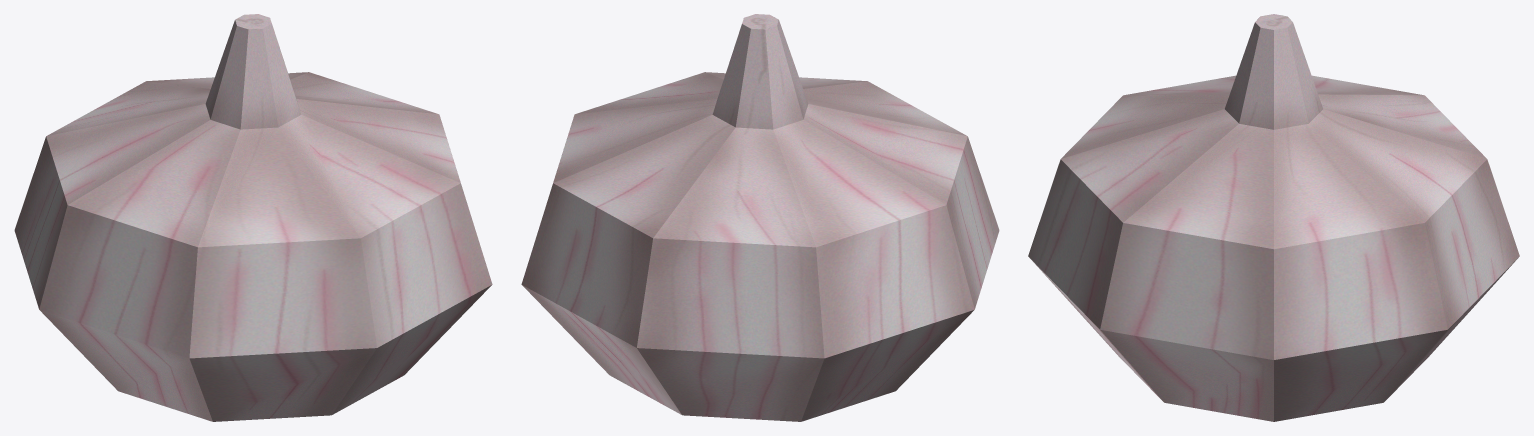
File: Alho.fbx
3 views of the same model, side by side, from view 1: azimuth 30°, elevation 25°; view 2: azimuth 150°, elevation 25°; view 3: azimuth 270°, elevation 25° (orthographic).
Visible parts, largest first — view 1: Cylinder001; view 2: Cylinder001; view 3: Cylinder001.
Part boxes in pixels (<box>): Cylinder001: <box>14,14,492,421</box>; Cylinder001: <box>521,14,999,421</box>; Cylinder001: <box>1028,14,1519,421</box>.
Size of the model in its own units: 25.46 by 19.1 by 25.46.
Materials: 1 (1 with a texture image).
